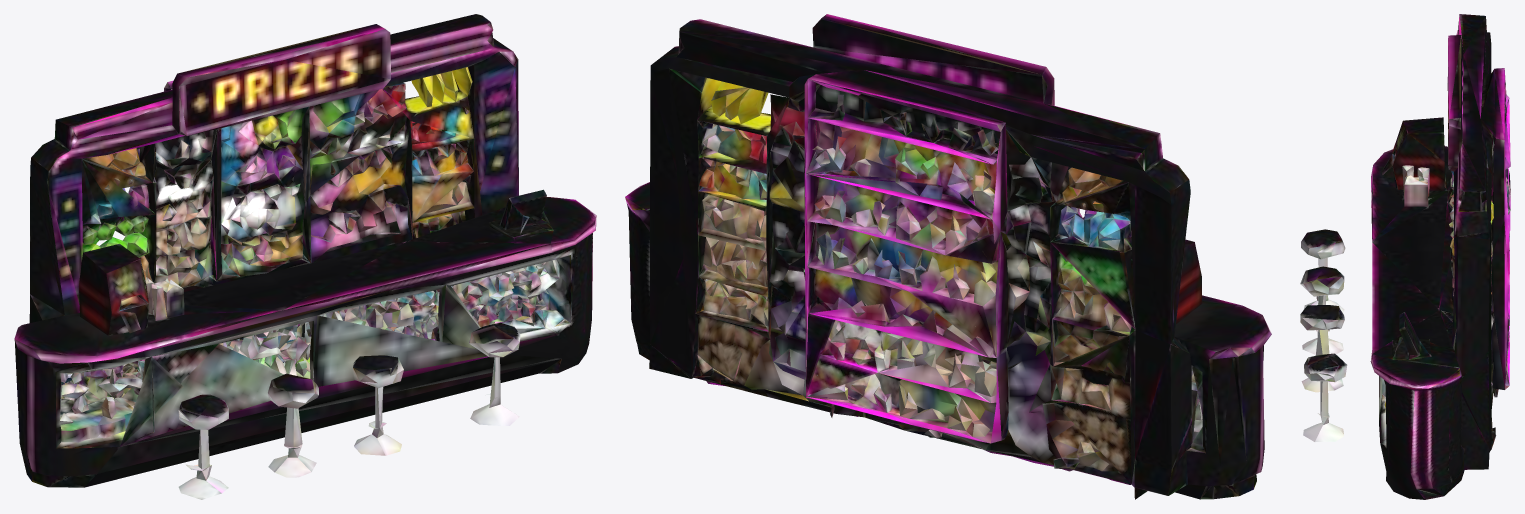
File: prizecounter.glb
3 renders of one model, left to right at view 1: azimuth 30°, elevation 25°; view 2: azimuth 150°, elevation 25°; view 3: azimuth 270°, elevation 25°, orthographic. The views are drawn at different scales.
Parts seen in each view (by area): view 1: Mesh_0; view 2: Mesh_0; view 3: Mesh_0.
Part boxes in pixels (bbox=[...]): Mesh_0: bbox=[14, 14, 596, 499]; Mesh_0: bbox=[625, 14, 1271, 499]; Mesh_0: bbox=[1300, 14, 1510, 499].
Bounding box in the file's own units: 1.89 × 1.12 × 0.699.
Materials: 1 (1 with a texture image).
